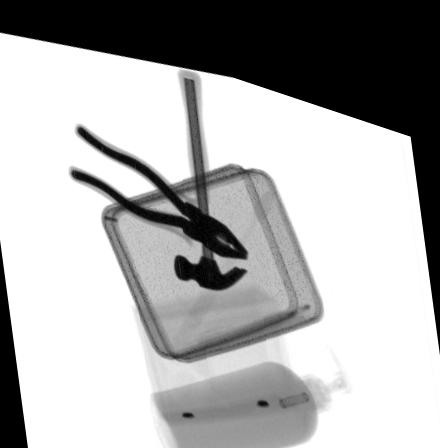Hammer: (171, 57, 248, 279)
Pliers: (68, 118, 248, 245)
